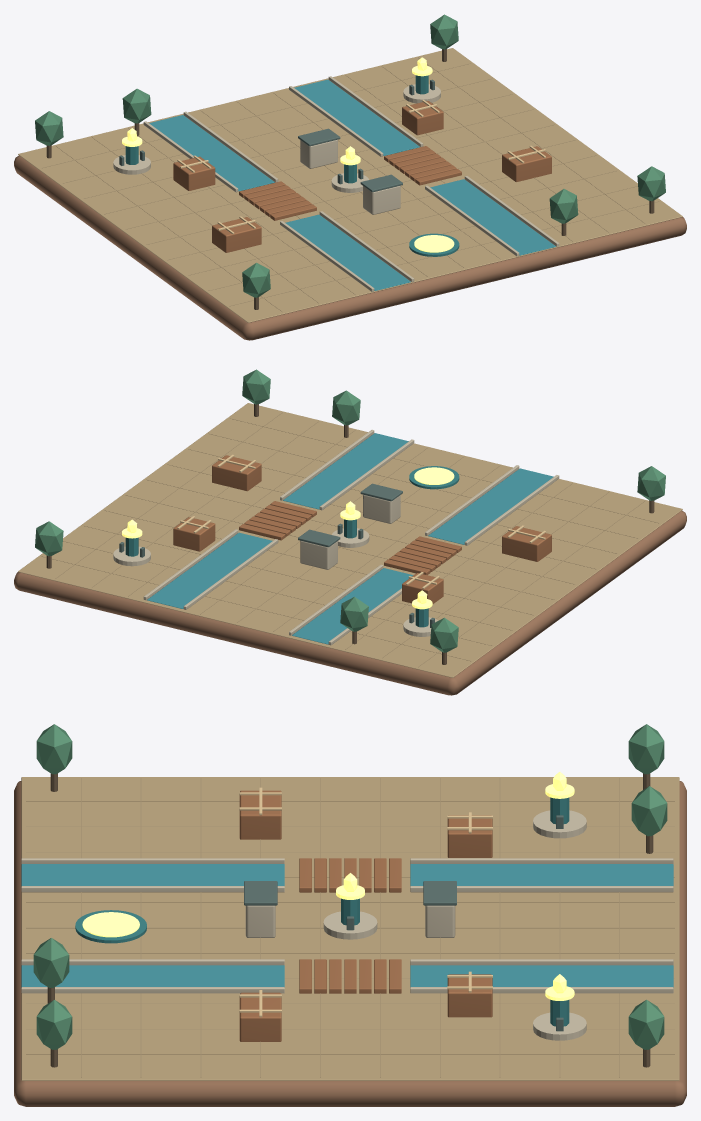
Rendered from arena-locks.glb.
The picture shows the model from 3 angles, top to bottom: view 1: azimuth 30°, elevation 25°; view 2: azimuth 150°, elevation 25°; view 3: azimuth 270°, elevation 25°; orthographic projection. The views are drawn at different scales.
Visible parts, largest first — view 1: Tactical floor, Terrain island, Part__Canal water.001, Part__Concrete locks, Part__Grid locks, Part__Shrubs.001, Part__Warm crate.001, Crate body.003, Crate body.002, Crate body, Crate body.001, Part__Railings.001 (+1 smaller); view 2: Tactical floor, Terrain island, Part__Canal water.001, Part__Concrete locks, Part__Grid locks, Part__Shrubs.001, Part__Warm crate.001, Crate body.003, Crate body.002, Crate body.001, Part__Railings.001, Crate body (+1 smaller); view 3: Tactical floor, Terrain island, Part__Canal water.001, Part__Concrete locks, Part__Shrubs.001, Part__Grid locks, Part__Warm crate.001, Crate body.002, Crate body.003, Crate body.001, Crate body, Part__Railings.001 (+6 smaller).
Boxes of the visible parts, x1=… form: Tactical floor: x1=18, y1=48, x2=682, y2=322; Terrain island: x1=14, y1=155, x2=686, y2=340; Part__Canal water.001: x1=149, y1=79, x2=555, y2=290; Part__Concrete locks: x1=143, y1=76, x2=559, y2=291; Part__Grid locks: x1=41, y1=57, x2=659, y2=312; Part__Shrubs.001: x1=35, y1=14, x2=665, y2=297; Part__Warm crate.001: x1=239, y1=146, x2=461, y2=220; Crate body.003: x1=502, y1=146, x2=551, y2=181; Crate body.002: x1=212, y1=217, x2=261, y2=252; Crate body: x1=173, y1=156, x2=215, y2=190; Crate body.001: x1=402, y1=101, x2=443, y2=135; Part__Railings.001: x1=298, y1=128, x2=402, y2=192; Tactical floor: x1=18, y1=403, x2=682, y2=677; Terrain island: x1=14, y1=510, x2=686, y2=695; Part__Canal water.001: x1=147, y1=433, x2=553, y2=644; Part__Concrete locks: x1=143, y1=429, x2=559, y2=645; Part__Grid locks: x1=41, y1=412, x2=659, y2=667; Part__Shrubs.001: x1=35, y1=369, x2=665, y2=652; Part__Warm crate.001: x1=239, y1=501, x2=461, y2=575; Crate body.003: x1=212, y1=455, x2=261, y2=491; Crate body.002: x1=502, y1=526, x2=551, y2=561; Crate body.001: x1=173, y1=517, x2=215, y2=551; Part__Railings.001: x1=298, y1=483, x2=402, y2=547; Crate body: x1=402, y1=573, x2=443, y2=603; Tactical floor: x1=21, y1=777, x2=679, y2=1080; Terrain island: x1=14, y1=781, x2=686, y2=1106; Part__Canal water.001: x1=21, y1=864, x2=673, y2=987; Part__Concrete locks: x1=21, y1=858, x2=673, y2=993; Part__Shrubs.001: x1=33, y1=724, x2=667, y2=1049; Part__Grid locks: x1=26, y1=778, x2=674, y2=1077; Part__Warm crate.001: x1=299, y1=858, x2=401, y2=993; Crate body.002: x1=239, y1=790, x2=281, y2=839; Crate body.003: x1=239, y1=992, x2=281, y2=1041; Crate body.001: x1=447, y1=974, x2=492, y2=1017; Crate body: x1=447, y1=815, x2=492, y2=857; Part__Railings.001: x1=244, y1=881, x2=456, y2=905.
Bounding box in the file's own units: 24.5 × 3.5 × 22.5.
